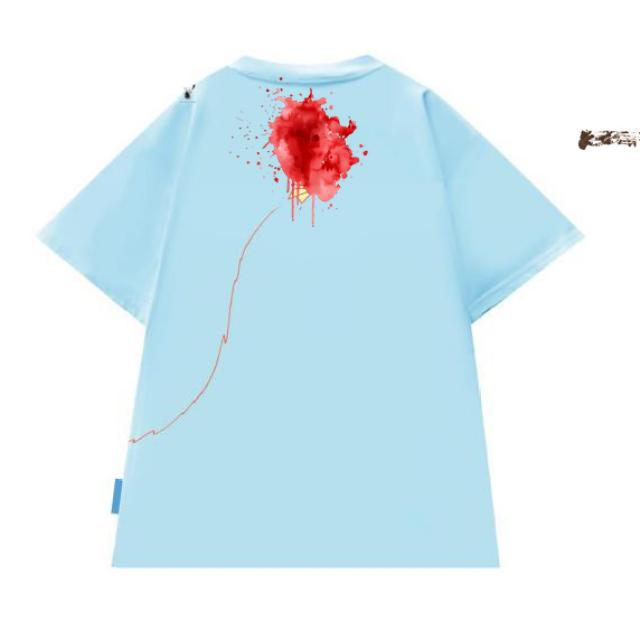stain: (244, 92, 356, 215), (173, 83, 195, 98)
